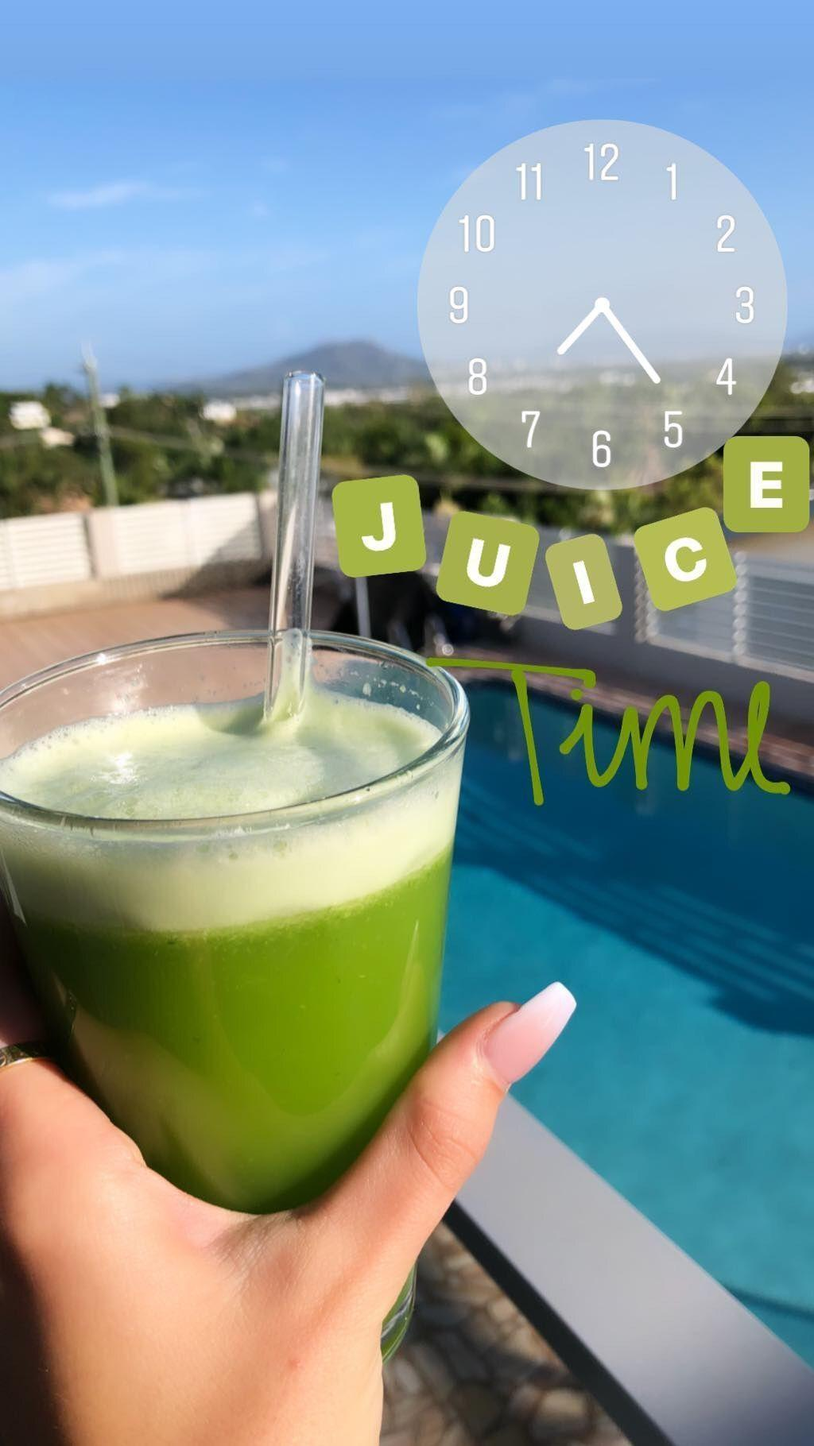glass-normal: (1, 625, 471, 1384)
